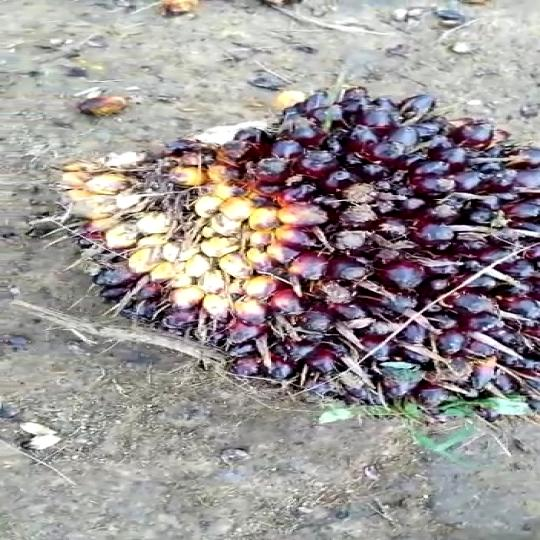mentah: (61, 85, 540, 428)
